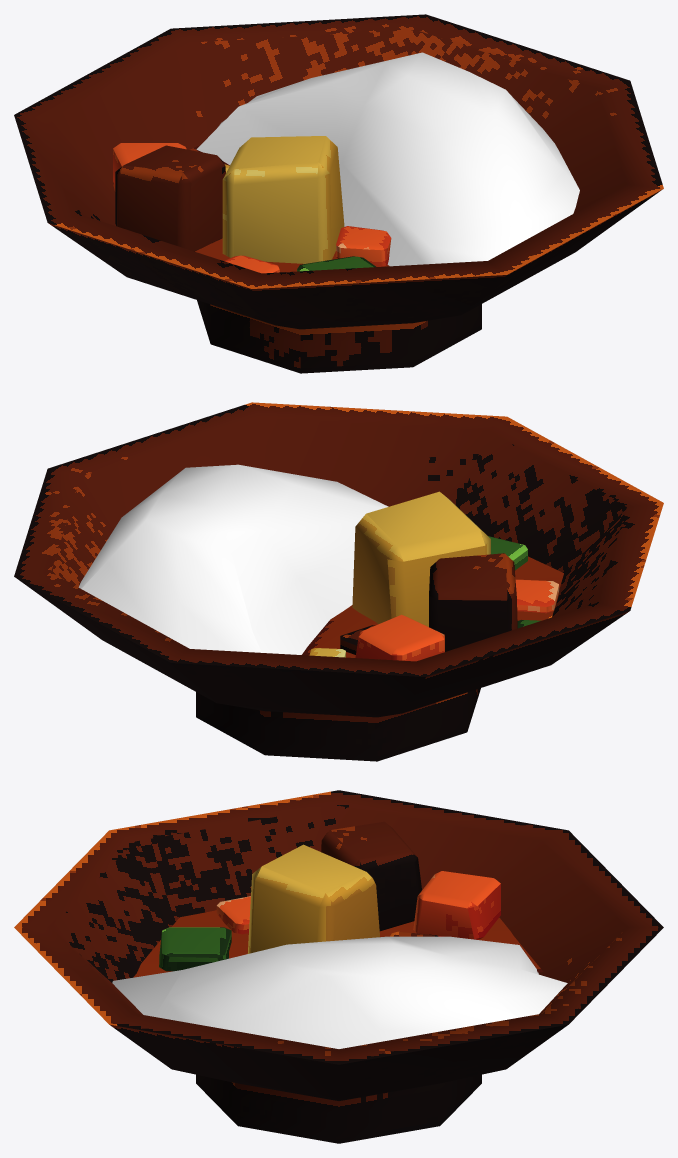
File: food_curry.glb
3 views of the same model, one above another, from view 1: azimuth 30°, elevation 25°; view 2: azimuth 150°, elevation 25°; view 3: azimuth 270°, elevation 25° (orthographic). The views are drawn at different scales.
Visible parts, largest first — view 1: mesh; view 2: mesh; view 3: mesh.
Part boxes in pixels (x1=…): mesh: x1=14, y1=14, x2=663, y2=373; mesh: x1=14, y1=402, x2=663, y2=761; mesh: x1=14, y1=790, x2=663, y2=1143.
Size of the model in its own units: 0.1564 by 0.05 by 0.1564.
Materials: 1 (1 with a texture image).
